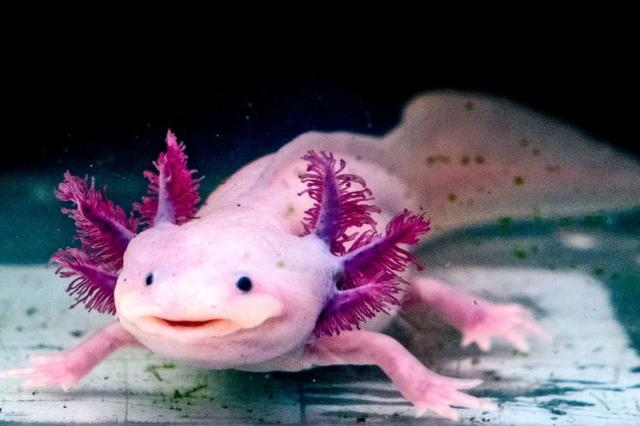Mulut: (126, 298, 240, 356)
Sirip Ekor: (462, 67, 640, 246)
